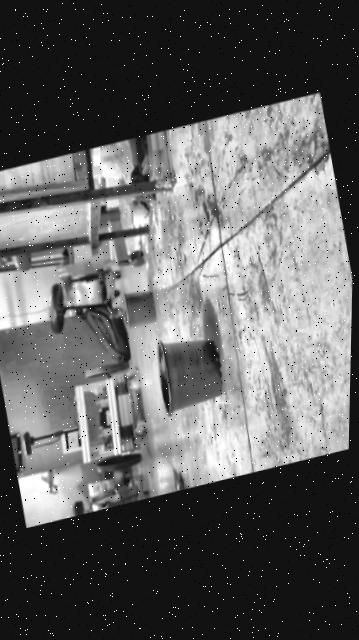pot: (151, 328, 227, 418), (119, 286, 157, 329)
